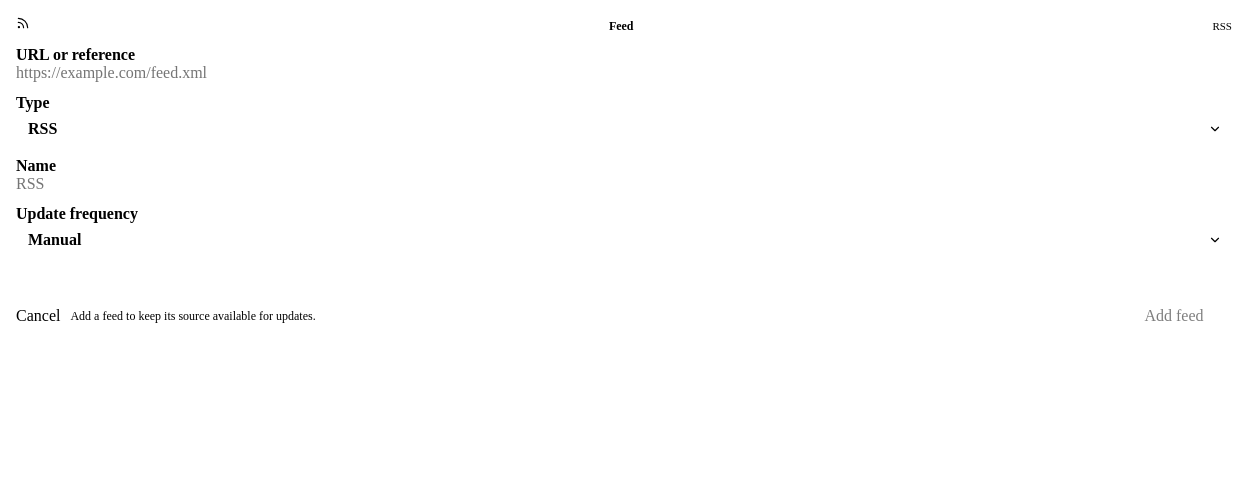
Test: feed setup independent of the import workspace › clears an earlier create error when correcting source-api-list-path
Type "https://example.test/api/items" into the field with test id "source-url" at (624, 73), box [16,64,1232,82]
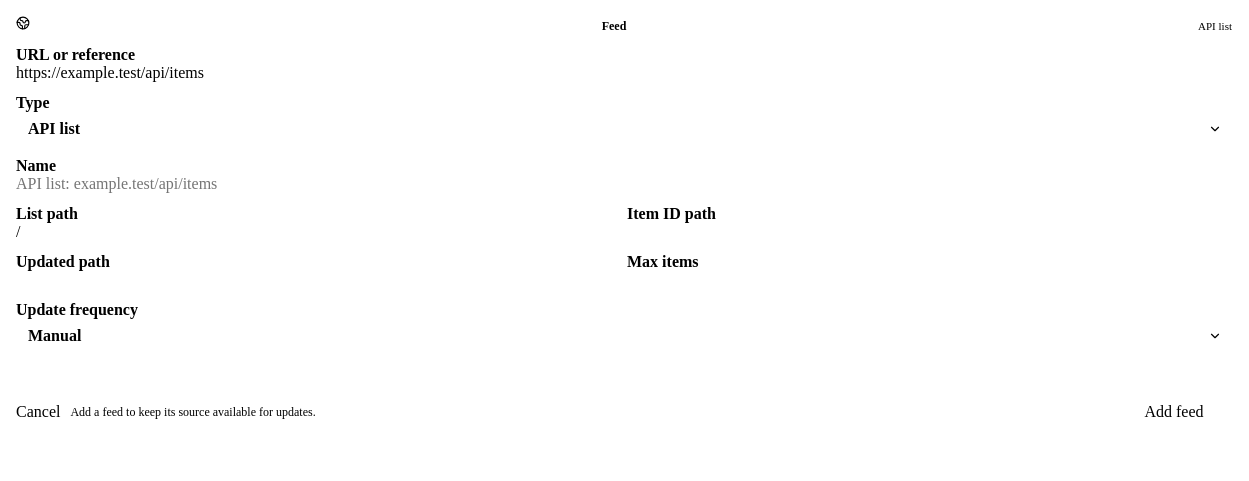
Click the button with test id "source-create" at (1174, 412), box [1116,403,1232,421]
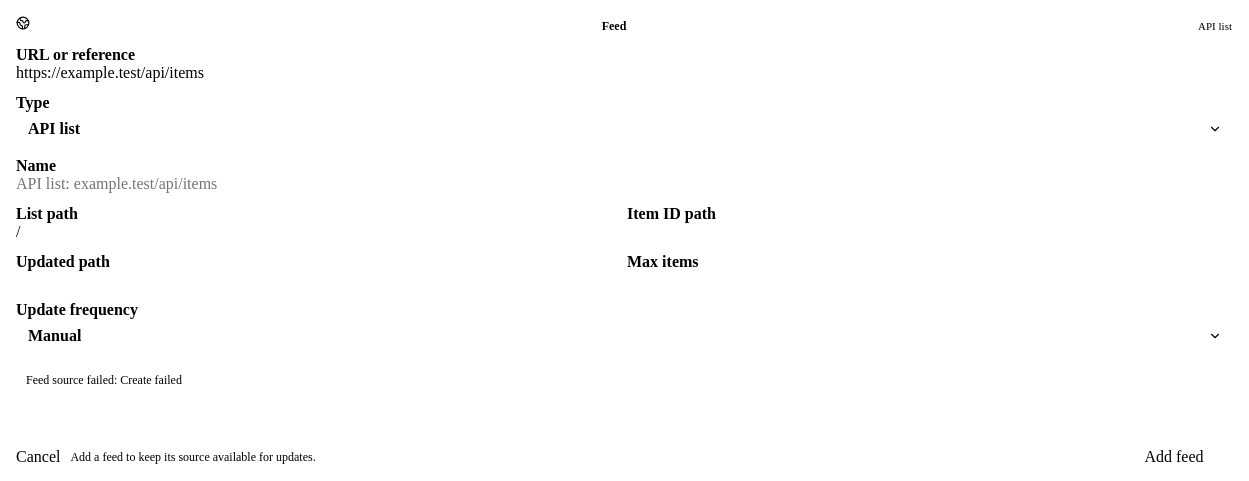
Expected: the message shows "Create failed", [26,373,182,387]
Replace the text in the field with test id "source-api-list-path" with "/next" at (318, 232), box [16,223,621,241]
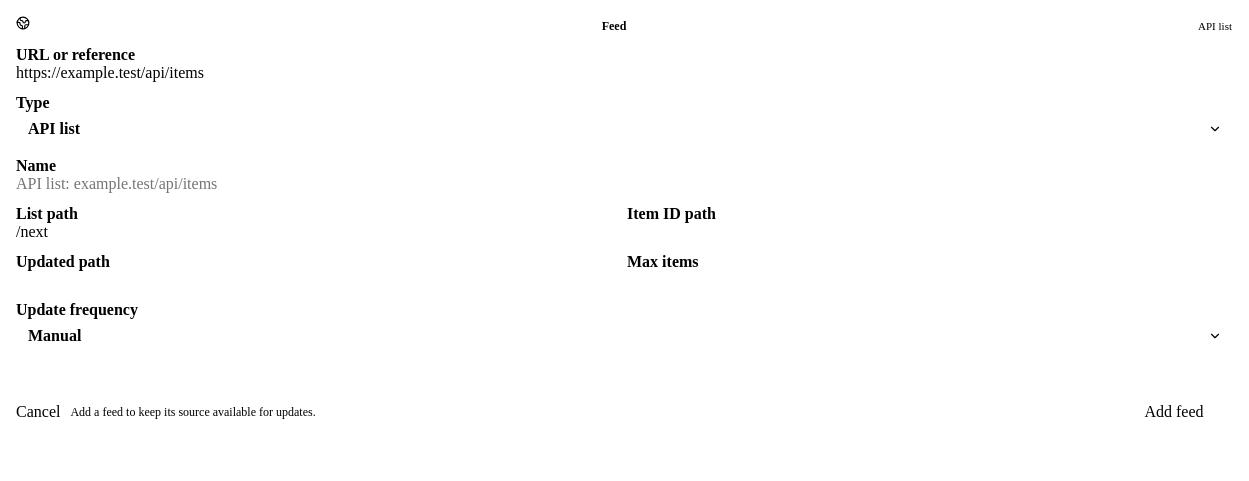
Expected: the message "Feed source failed: Create failed" is gone
